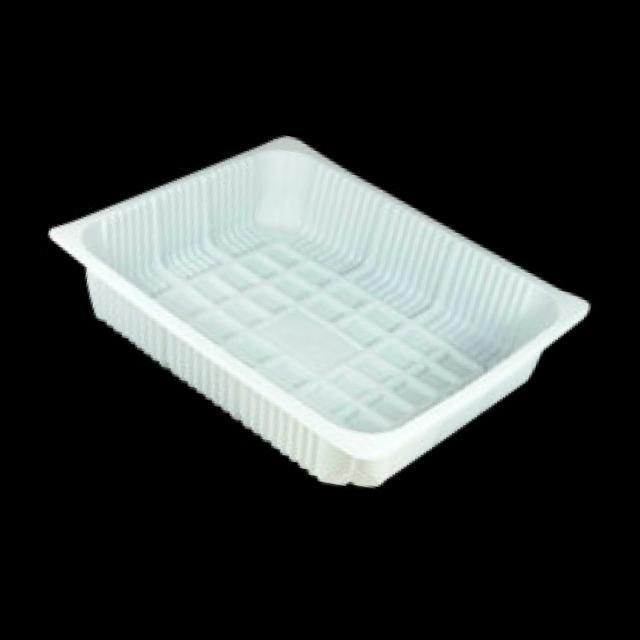disposable: (15, 138, 612, 504)
